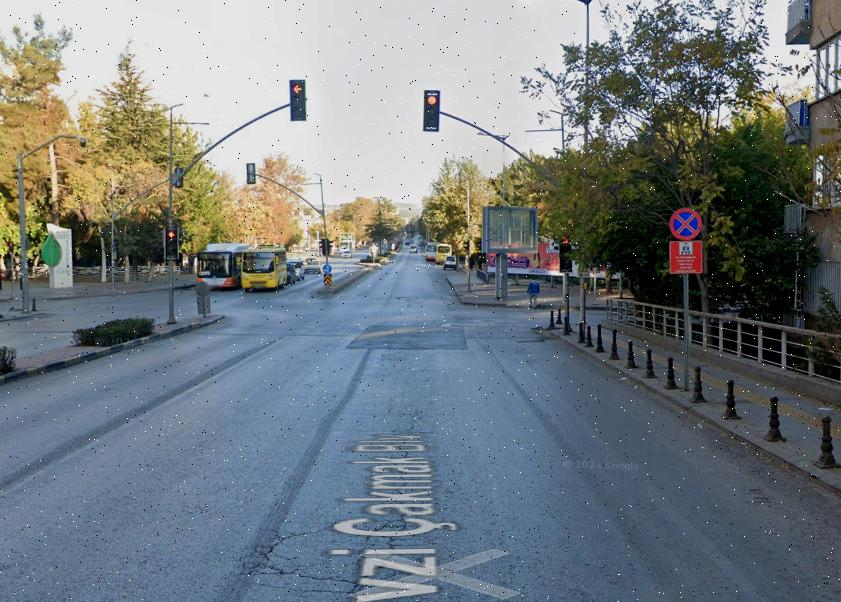redlight: (290, 82, 308, 121), (424, 90, 440, 132), (558, 231, 571, 272), (165, 226, 178, 259)
